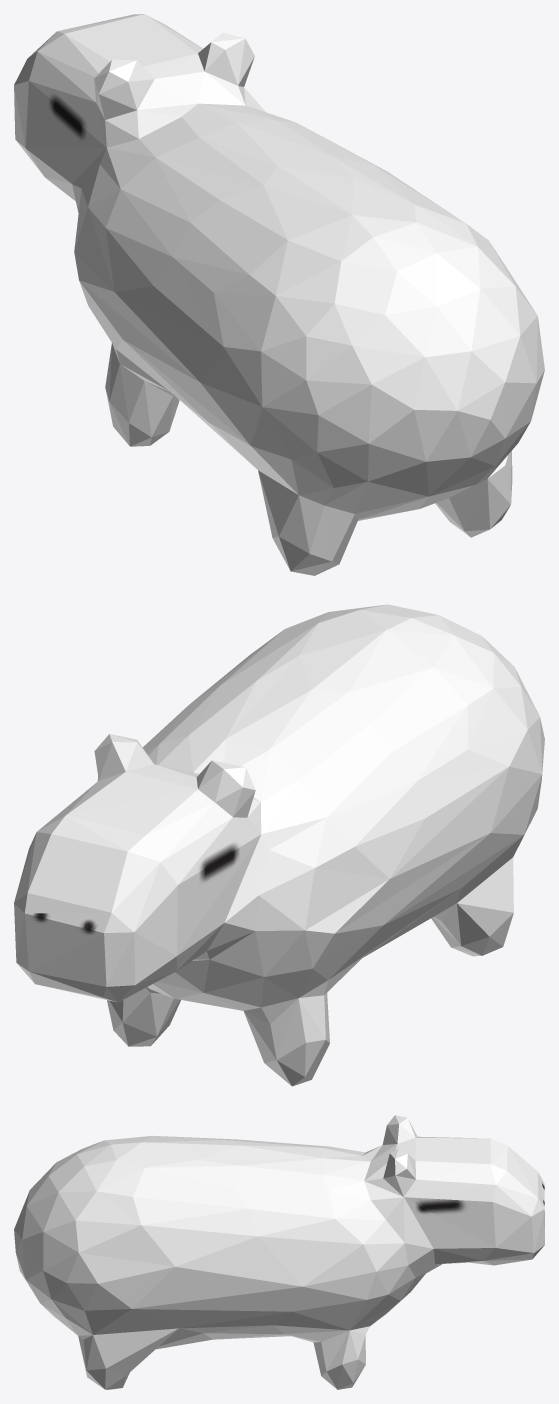
Rendered from animal_capybara_blob.obj.
3 views of the same model, one above another, from view 1: azimuth 30°, elevation 25°; view 2: azimuth 150°, elevation 25°; view 3: azimuth 270°, elevation 25° (orthographic). The views are drawn at different scales.
Parts seen in each view (by area): view 1: animal_capybara_blob; view 2: animal_capybara_blob; view 3: animal_capybara_blob.
Part boxes in pixels (left/top/right/bottom): animal_capybara_blob: left=14, top=14, right=544, bottom=575; animal_capybara_blob: left=14, top=604, right=544, bottom=1086; animal_capybara_blob: left=14, top=1115, right=544, bottom=1389.
Size of the model in its own units: 0.4341 by 0.5 by 1.05.
